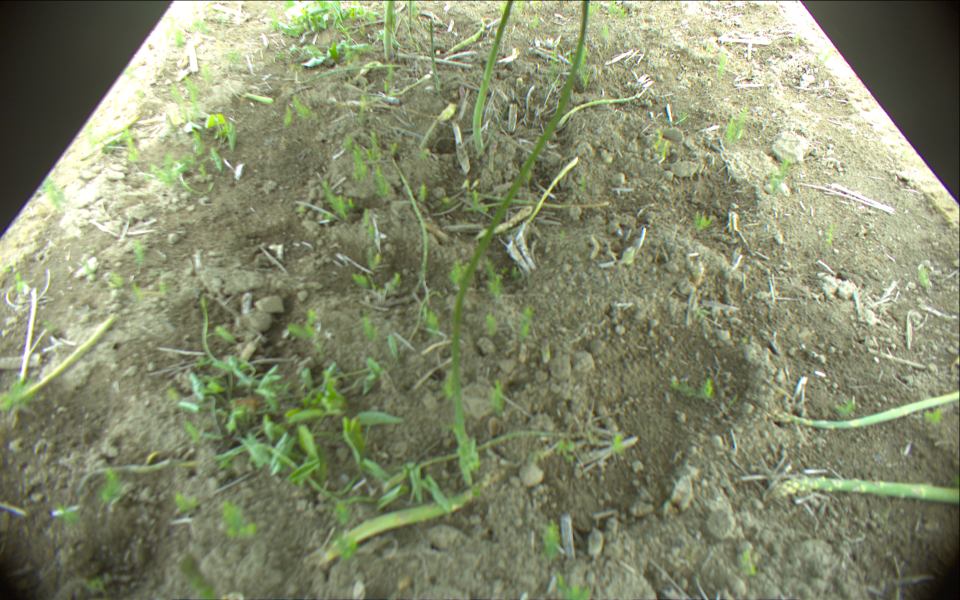aspa: (450, 1, 592, 471), (317, 469, 503, 563), (1, 315, 118, 405), (773, 389, 960, 430), (475, 1, 515, 155), (773, 477, 960, 506), (389, 152, 428, 285), (557, 85, 649, 128), (528, 157, 579, 225), (471, 209, 531, 239), (443, 18, 488, 56), (429, 19, 439, 92), (383, 1, 395, 59), (407, 1, 414, 41)
